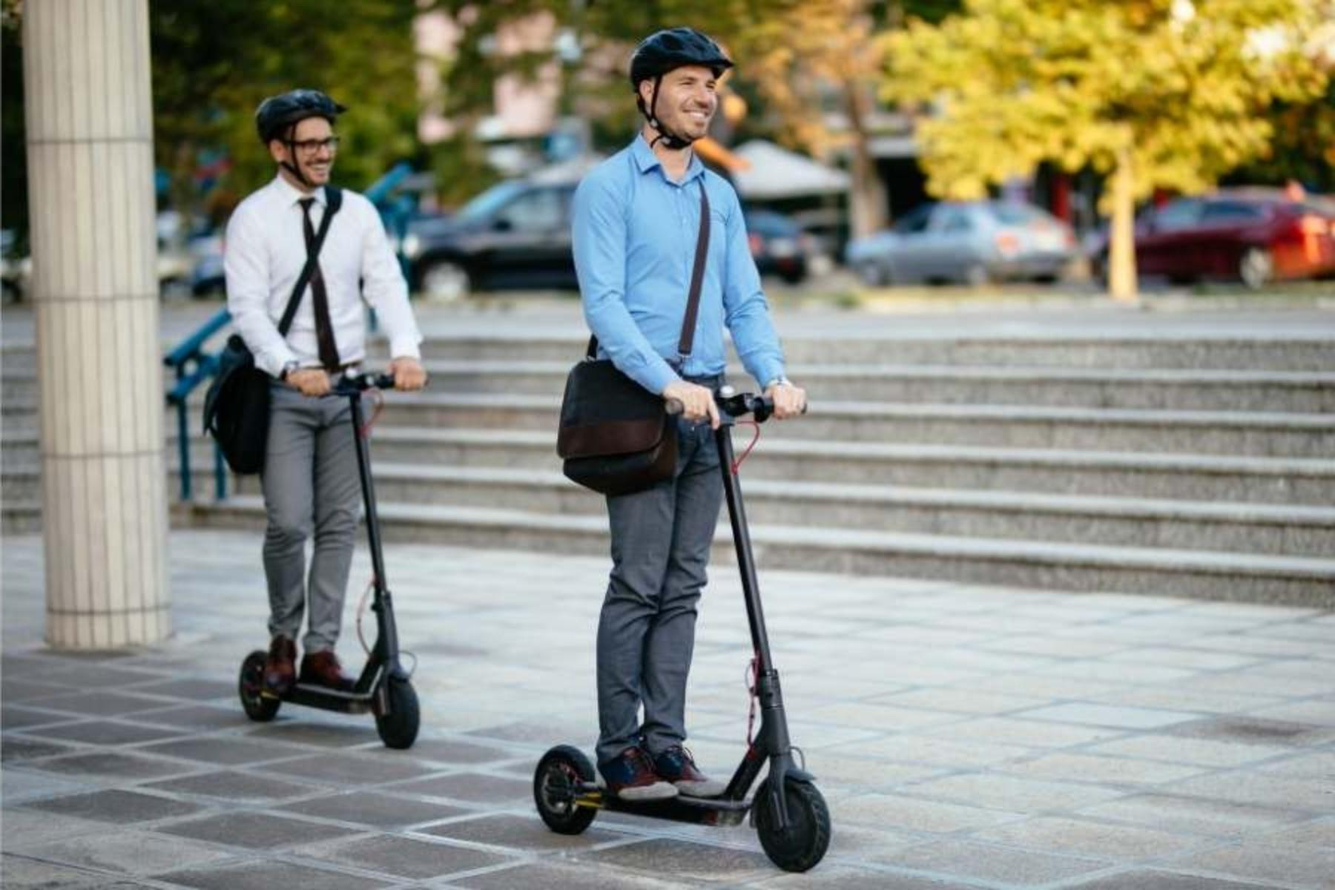helmet: (630, 23, 762, 162), (254, 92, 335, 186)
human: (556, 24, 798, 798), (206, 69, 412, 672)
kickboard: (531, 744, 838, 874), (233, 649, 421, 749)
